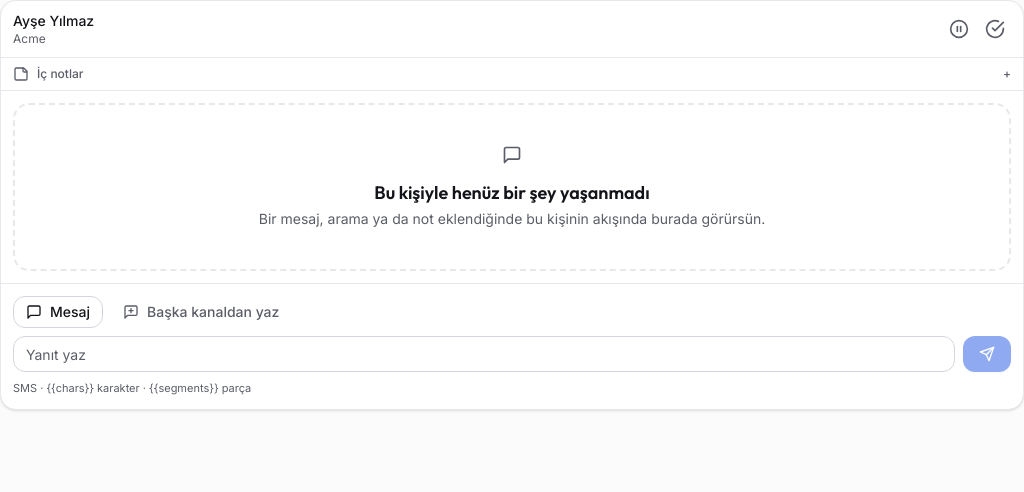
Scenario: PersonPane — a note nobody could fetch is not a note nobody wrote › still says "no notes yet" when the fetch actually succeeded and was empty
Click the button "İç notlar +" at [60, 74], box [13, 66, 1011, 82]
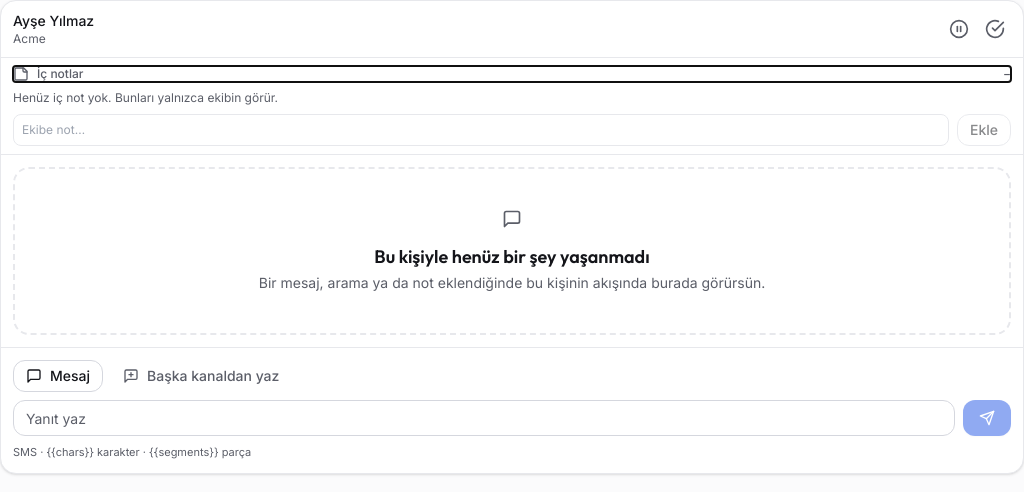
Check: the text "Henüz iç not yok. Bunları yalnızca ekibin görür." is shown, box [13, 90, 278, 105]
